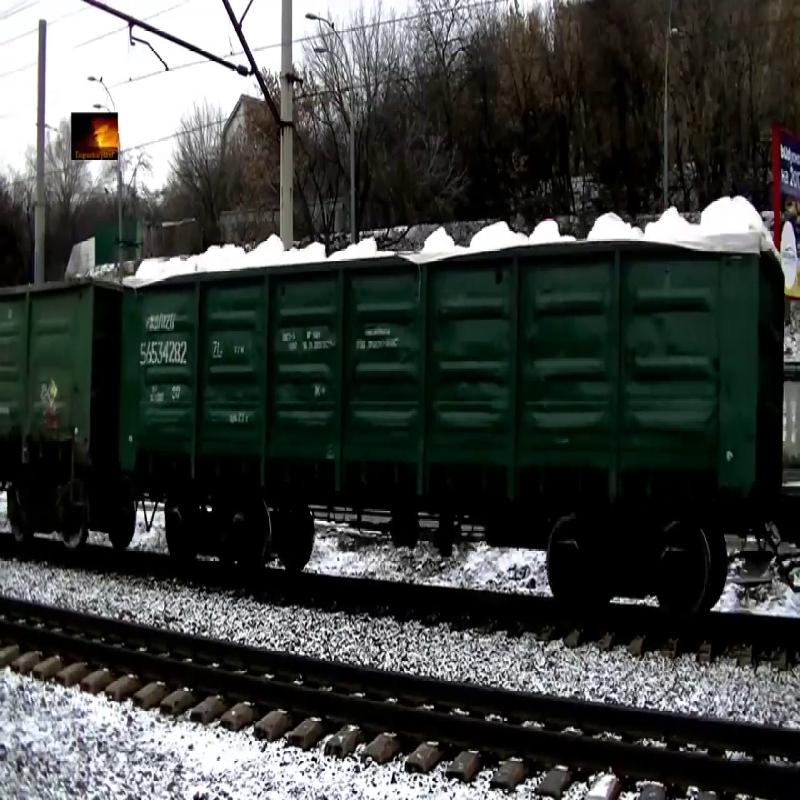train: (119, 227, 786, 511), (1, 272, 100, 486)
